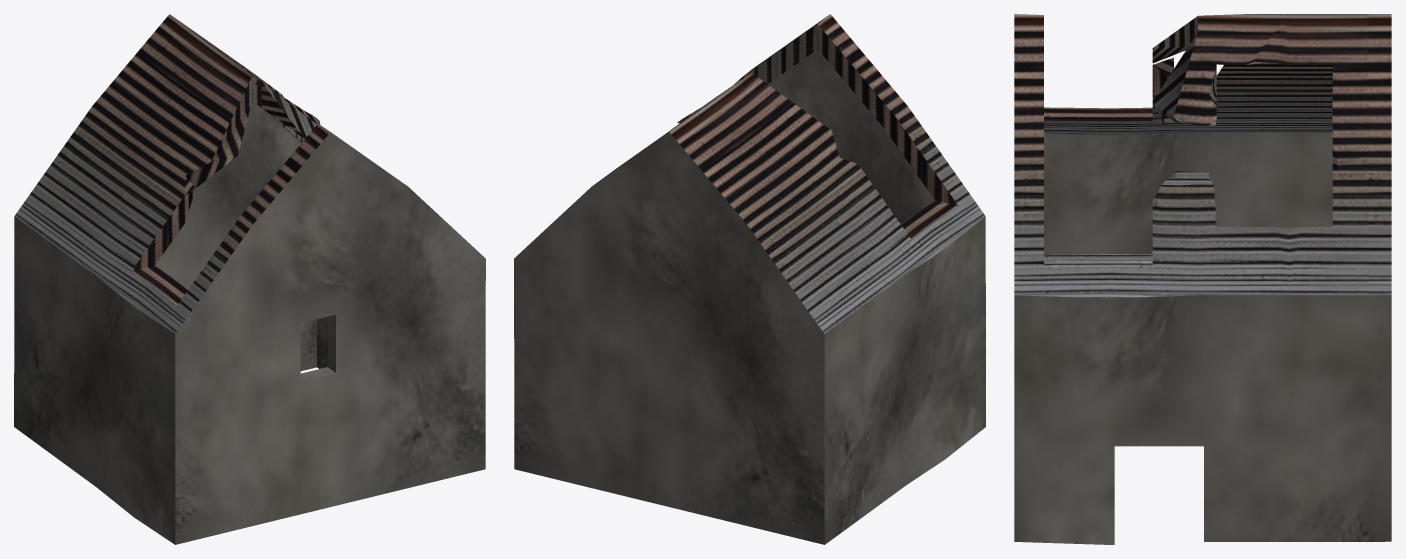
Rendered from house3.gltf.
3 views of the same model, side by side, from view 1: azimuth 30°, elevation 25°; view 2: azimuth 150°, elevation 25°; view 3: azimuth 270°, elevation 25° (orthographic). The views are drawn at different scales.
Parts seen in each view (by area): view 1: house3_atomic0; view 2: house3_atomic0; view 3: house3_atomic0.
Boxes of the visible parts, x1,y1,x2,y2 form: house3_atomic0: [14, 14, 485, 544]; house3_atomic0: [514, 14, 985, 544]; house3_atomic0: [1014, 14, 1391, 544].
Size of the model in its own units: 69.01 by 80.21 by 62.02.
2 materials, 2 textured.
